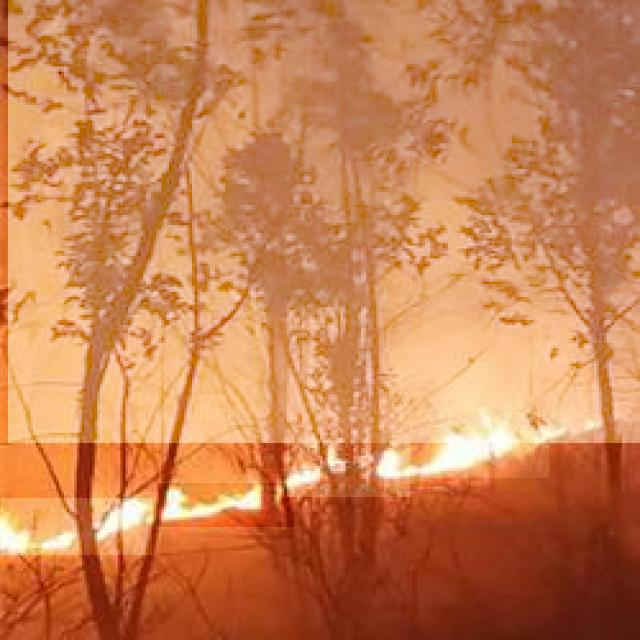Fire: (1, 498, 152, 555), (420, 421, 549, 478), (287, 442, 410, 497), (158, 483, 294, 527)
Smoke: (8, 0, 640, 443)
